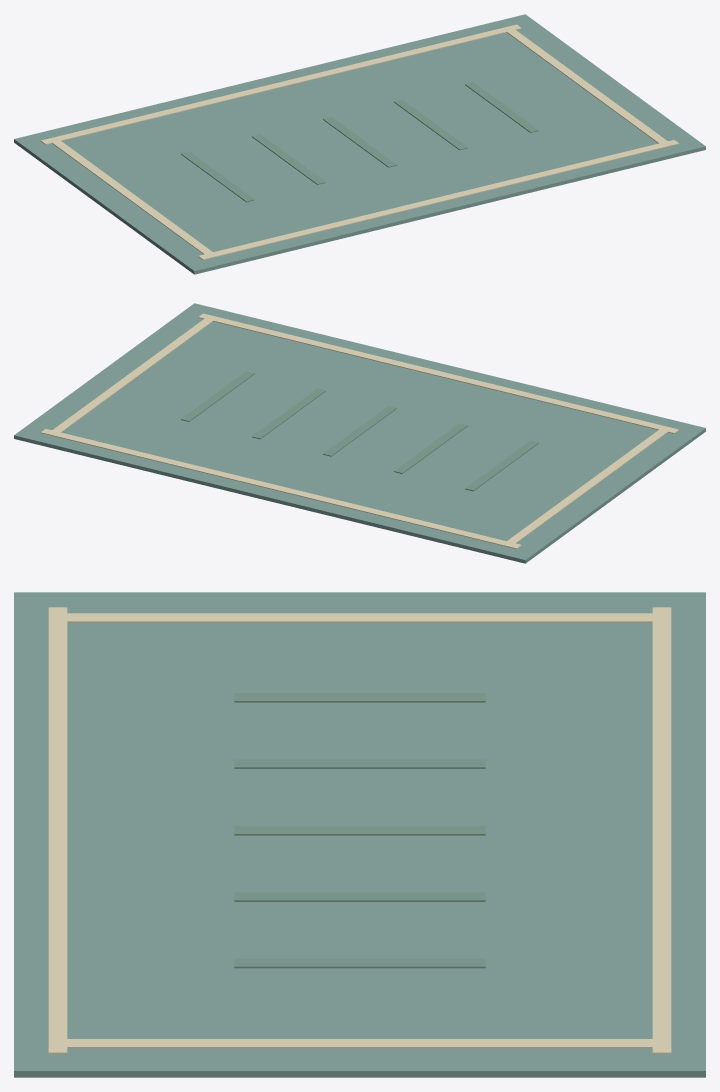
Rendered from rug.glb.
The picture shows the model from 3 angles, top to bottom: view 1: azimuth 30°, elevation 25°; view 2: azimuth 150°, elevation 25°; view 3: azimuth 270°, elevation 25°; orthographic projection. The views are drawn at different scales.
Visible parts, largest first — view 1: Rug, Border, Pattern; view 2: Rug, Border, Pattern; view 3: Rug, Border, Pattern.
Part boxes in pixels (left/top/right/bottom): Rug: left=14, top=14, right=705, bottom=274; Border: left=41, top=24, right=679, bottom=260; Pattern: left=181, top=82, right=538, bottom=202; Rug: left=14, top=303, right=705, bottom=563; Border: left=40, top=313, right=678, bottom=549; Pattern: left=181, top=371, right=538, bottom=491; Rug: left=14, top=592, right=705, bottom=1077; Border: left=48, top=607, right=671, bottom=1054; Pattern: left=234, top=693, right=485, bottom=968.
Size of the model in its own units: 3.6 by 0.03 by 2.2.
